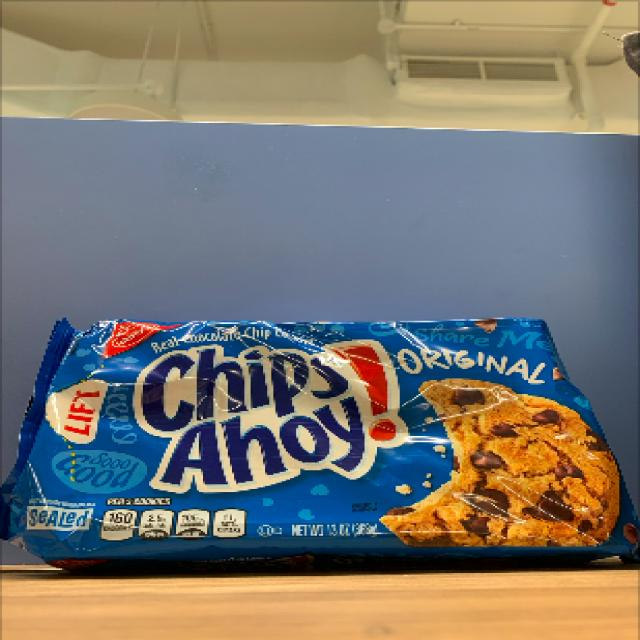object_name: (43, 325, 598, 551)
